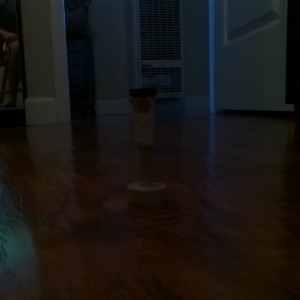traffic light red: (124, 86, 169, 204)
